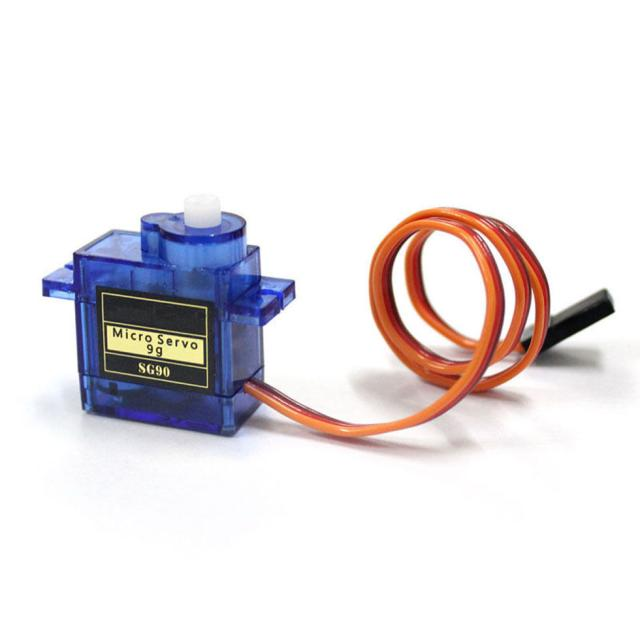motor: (41, 198, 299, 436)
